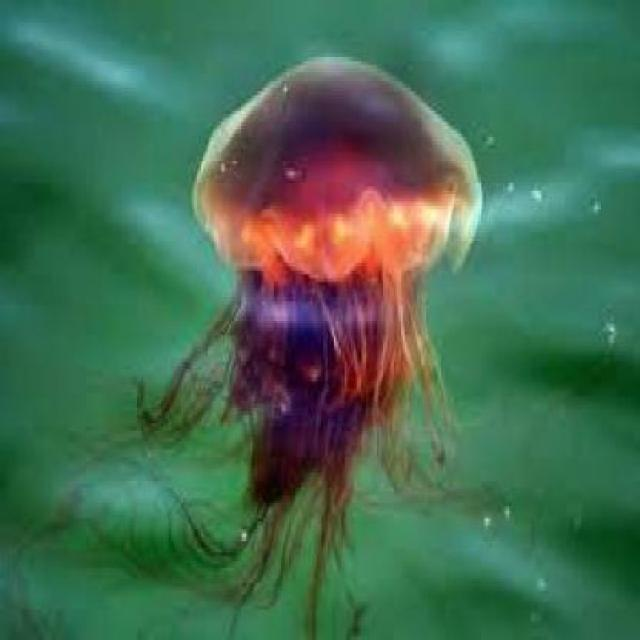Jellyfish: (155, 34, 494, 580)
